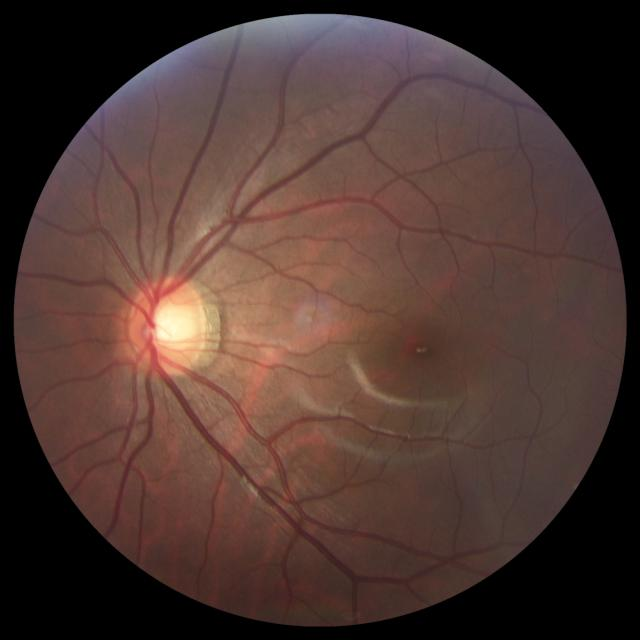OC: (147, 301, 195, 348)
OD: (126, 274, 206, 376)
